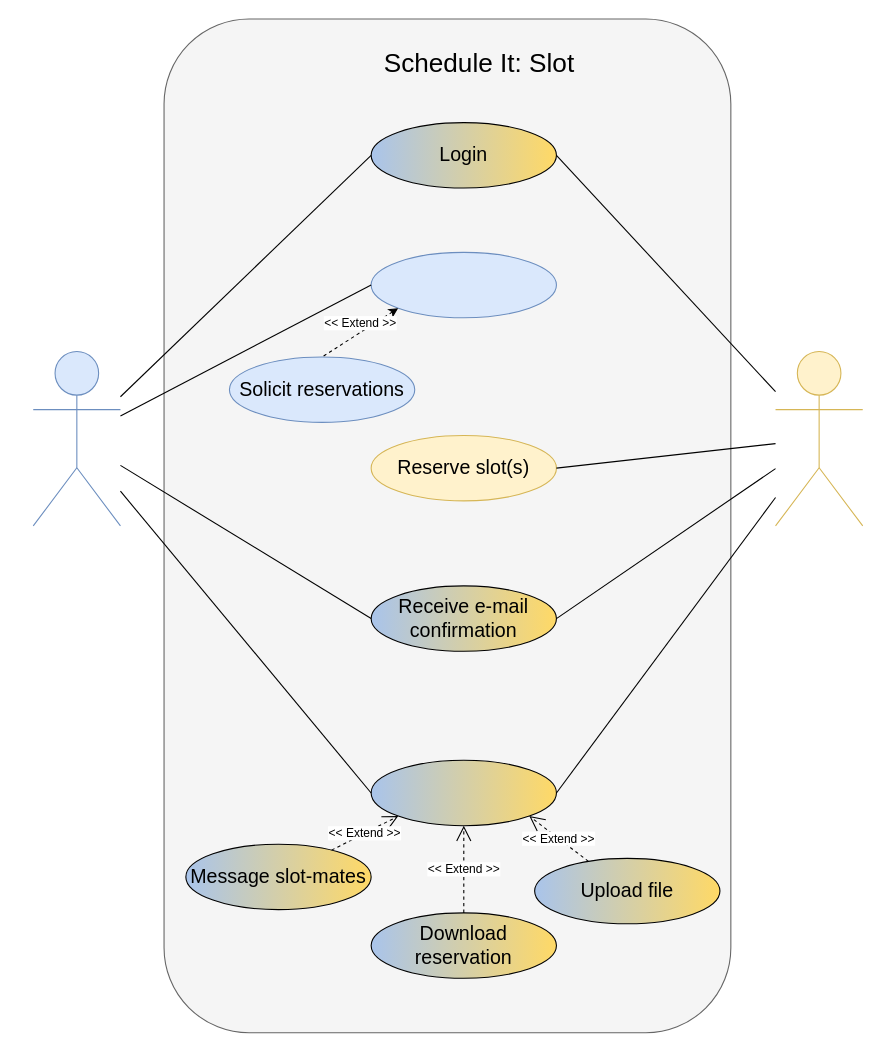
This 882x1052 diagram has some shape labels left out. The shapes that lost their labels are listed below. From the top down, each one's box as (x1, y1, x2, y2) in pixels, then its label:
(370, 251, 556, 318): Create slot(s)
(32, 350, 120, 526): Slot Creator
(774, 350, 863, 526): Slot Reserver
(370, 759, 556, 826): View reservation(s)
